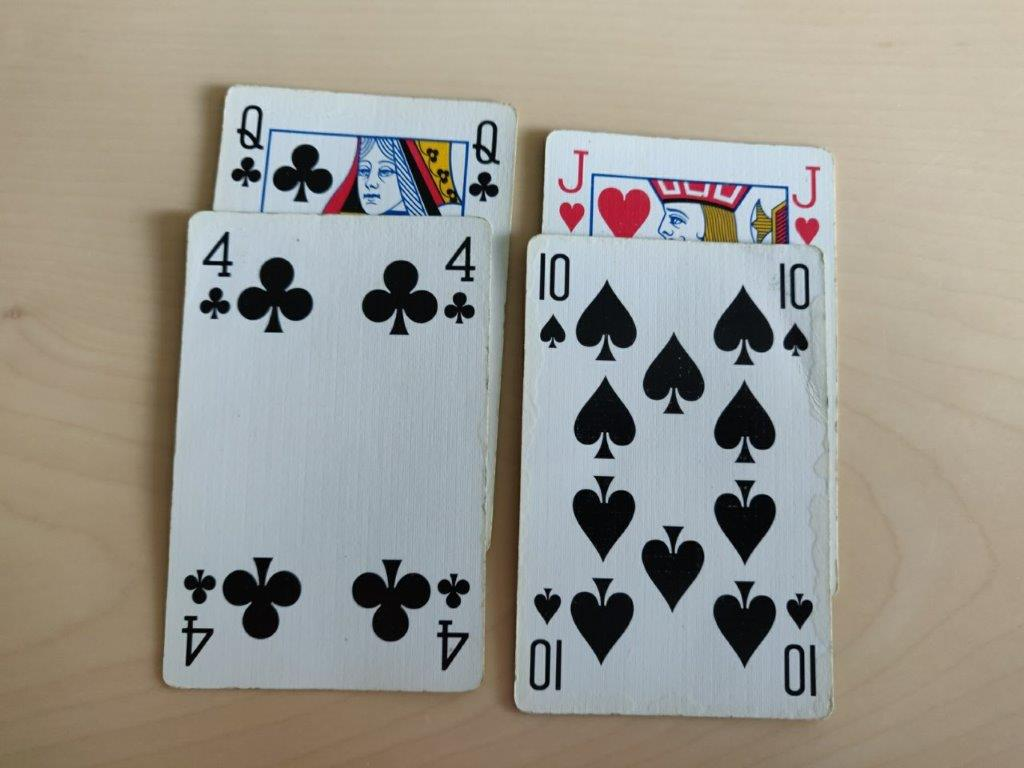10S: (532, 242, 575, 357), (772, 252, 815, 367)
4C: (194, 223, 238, 324), (439, 228, 483, 329)
JH: (550, 143, 590, 234), (785, 157, 825, 248)
QC: (229, 100, 269, 191), (463, 115, 503, 206)
